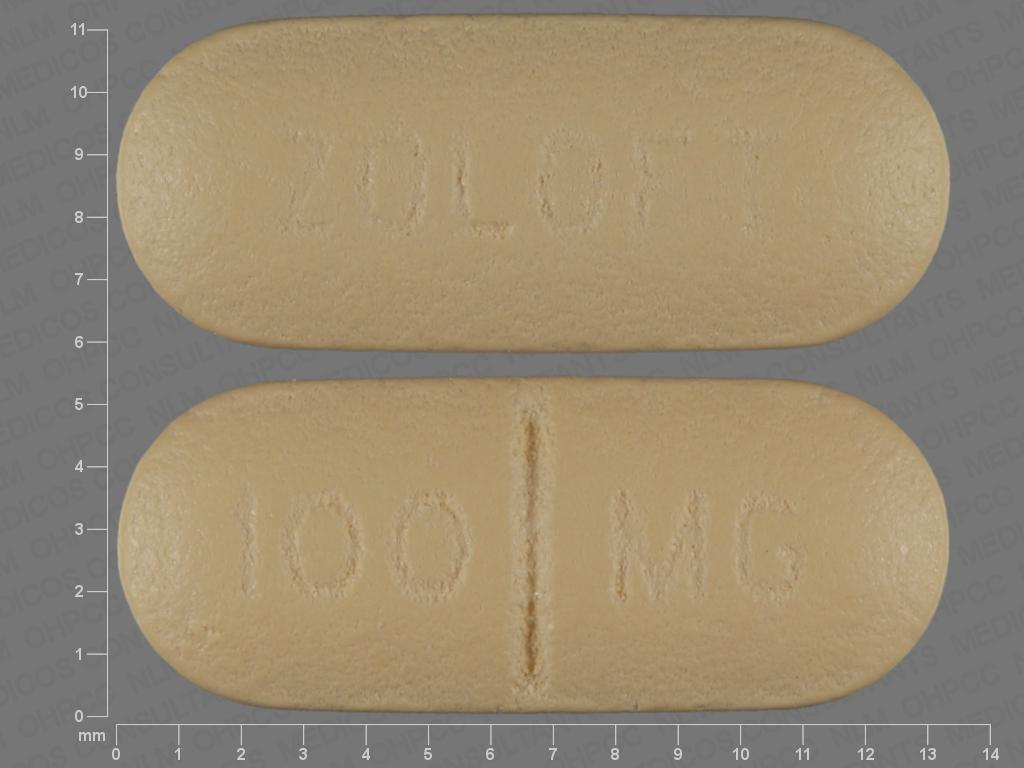Pill: (113, 7, 960, 361), (113, 369, 960, 723)
